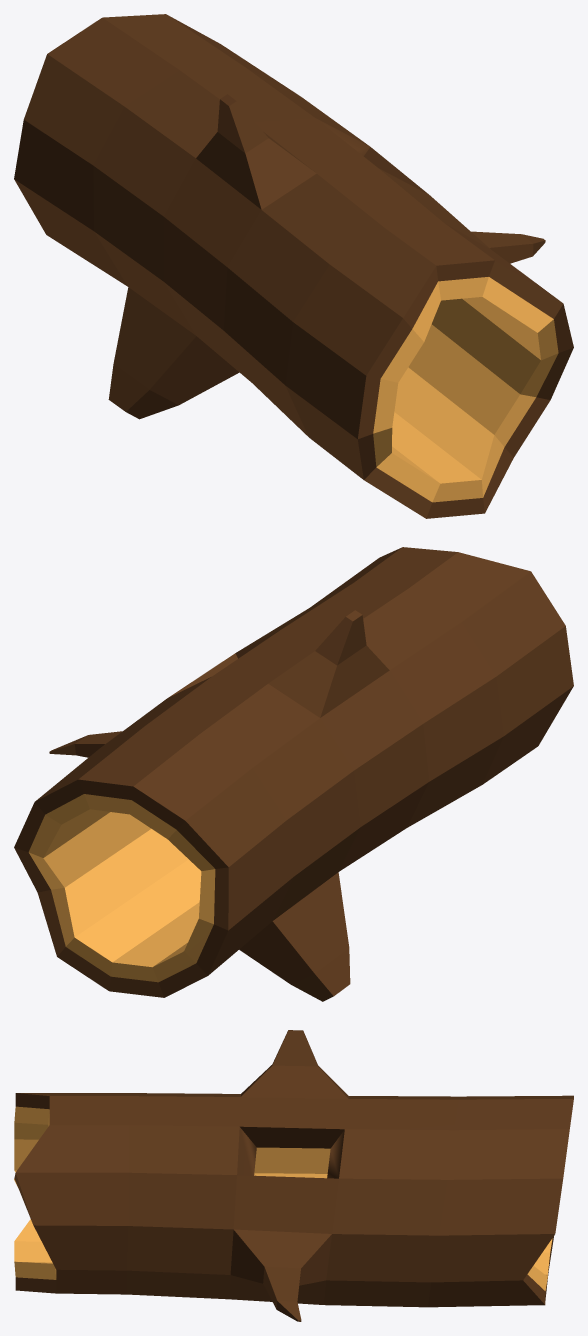
Rendered from treeroot02.fbx.
3 renders of one model, top to bottom at view 1: azimuth 30°, elevation 25°; view 2: azimuth 150°, elevation 25°; view 3: azimuth 270°, elevation 25°, orthographic. The views are drawn at different scales.
Visible parts, largest first — view 1: ortasibosagac; view 2: ortasibosagac; view 3: ortasibosagac.
Part boxes in pixels (x1,y1,x2,y2): ortasibosagac: [14, 14, 573, 518]; ortasibosagac: [14, 547, 573, 1001]; ortasibosagac: [14, 1030, 573, 1321].
Size of the model in its own units: 0.1866 by 0.1687 by 0.3157.
